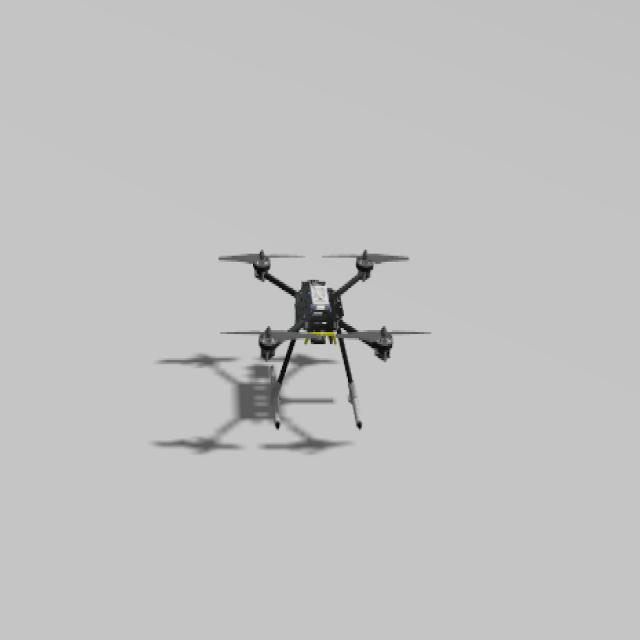drone: (212, 244, 424, 437)
